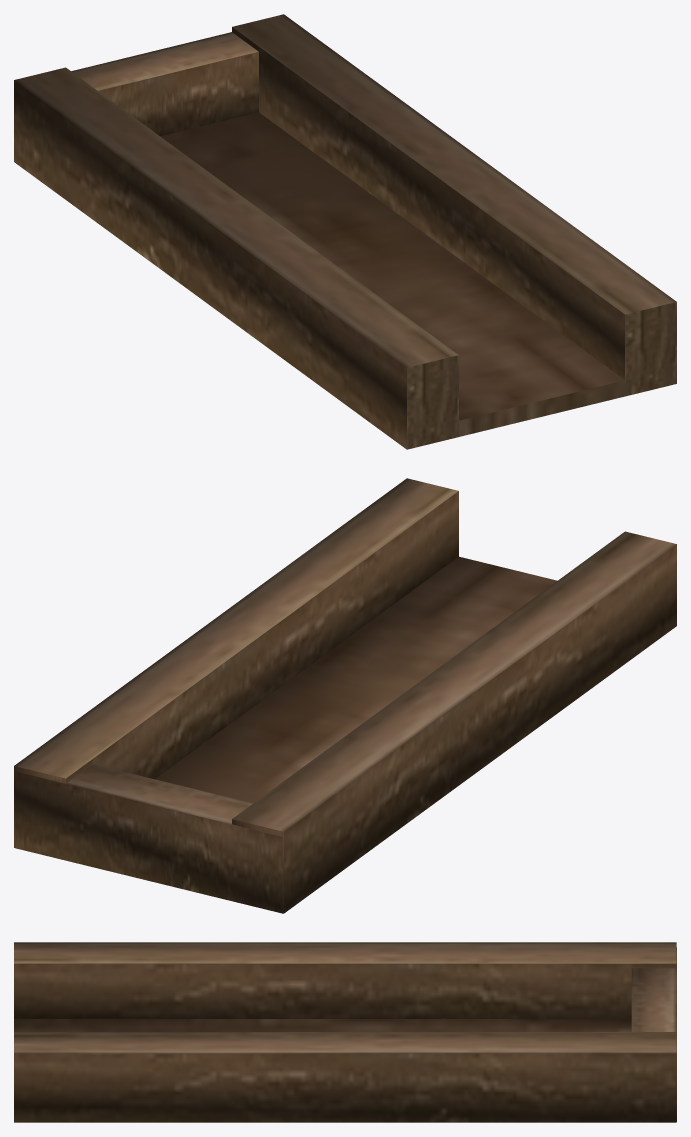
The model's file is C5_WaterWagon_Batten02.FBX.
3 renders of one model, top to bottom at view 1: azimuth 30°, elevation 25°; view 2: azimuth 150°, elevation 25°; view 3: azimuth 270°, elevation 25°, orthographic. The views are drawn at different scales.
Visible parts, largest first — view 1: C5_WaterWagon_Batten02; view 2: C5_WaterWagon_Batten02; view 3: C5_WaterWagon_Batten02.
Part boxes in pixels (box(x1,y1,x2,y2)): C5_WaterWagon_Batten02: box(14, 14, 676, 449); C5_WaterWagon_Batten02: box(14, 478, 676, 913); C5_WaterWagon_Batten02: box(14, 942, 676, 1122).
Size of the model in its own units: 34.81 by 10.1 by 87.81.
